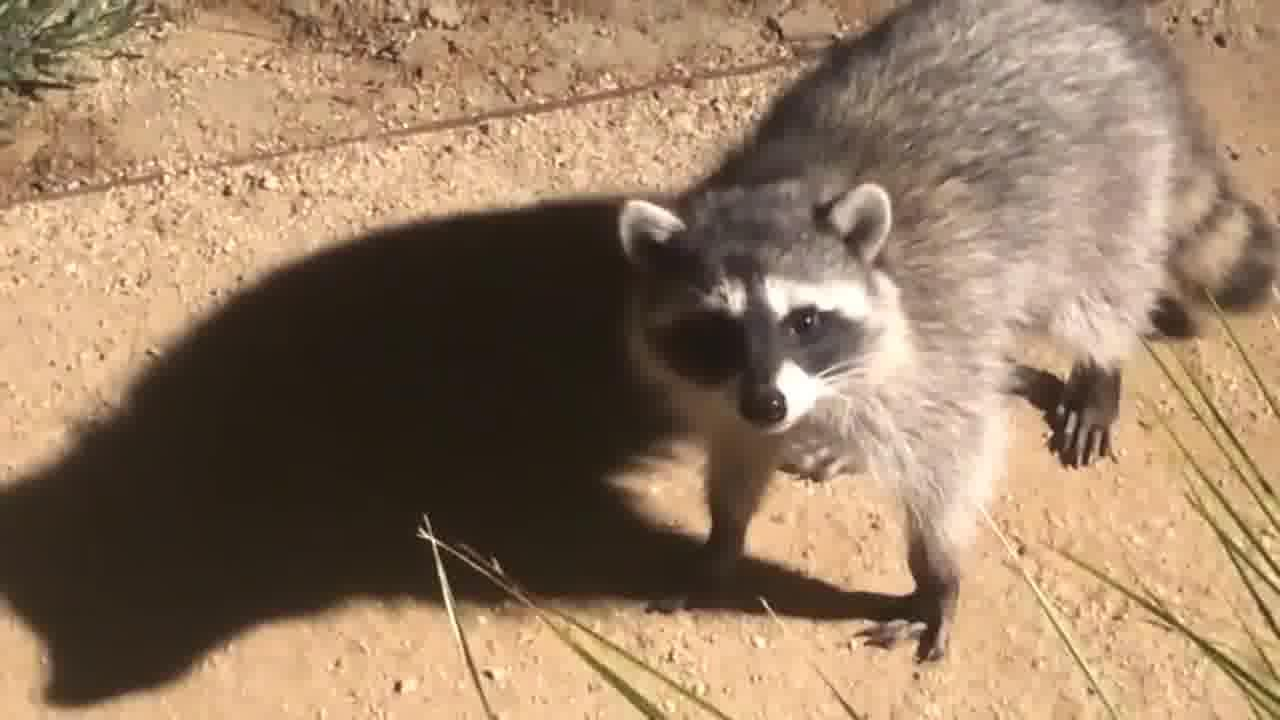raccoon: (613, 0, 1280, 665)
